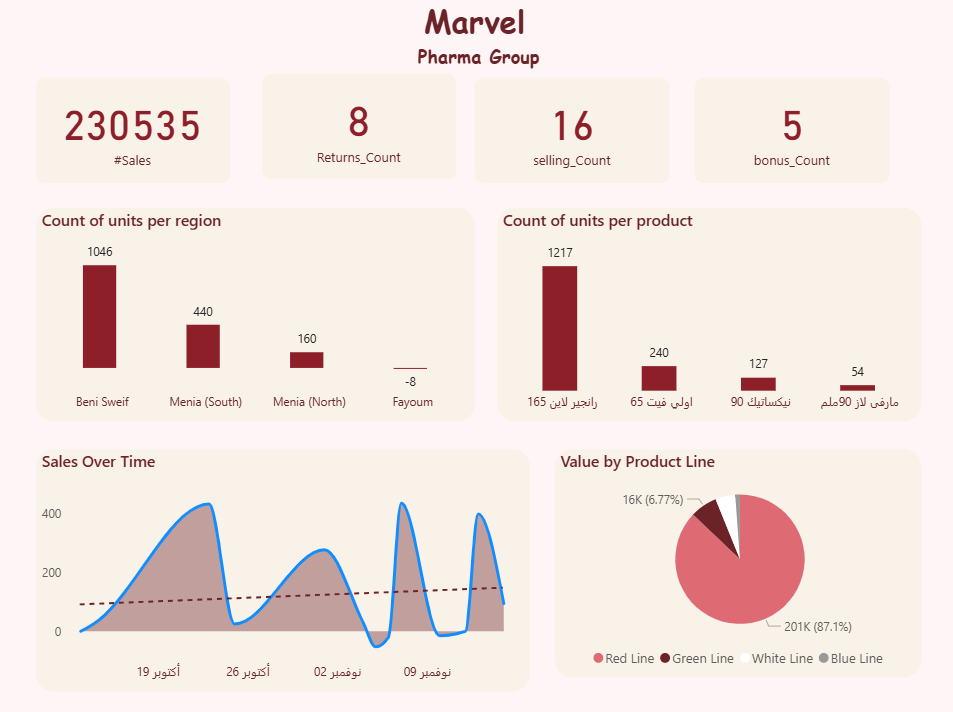

The dashboard page shown, as its layout file describes it:
{"tool":"powerbi","page":{"name":"Page 1","canvas":[1000,750],"ordinal":0},"visuals":[{"type":"clusteredColumnChart","title":"Count of units per region","fields":{"Y":["Sum(raw_sales.Units)"],"Category":["raw_sales.Region"]},"box":[56,217.8,447.1,217.8],"z":0},{"type":"card","fields":{"Values":["raw_sales.#values"]},"box":[56,85.3,197.4,107],"z":1000},{"type":"areaChart","title":"Sales Over Time","fields":{"Y":["Sum(raw_sales.Units)"],"Category":["raw_sales.Date.Variation.Date Hierarchy.Year","raw_sales.Date.Variation.Date Hierarchy.Quarter","raw_sales.Date.Variation.Date Hierarchy.Month","raw_sales.Date.Variation.Date Hierarchy.Day"]},"box":[56,463.7,503.1,247.1],"z":2000},{"type":"pieChart","title":"Value by Product Line ","fields":{"Y":["Sum(raw_sales.Value)"],"Category":["raw_sales.Line"]},"box":[584.7,463.7,373.2,233.1],"z":3000},{"type":"textbox","box":[264.9,0,476.4,101.9],"z":4000},{"type":"card","fields":{"Values":["raw_sales.bonus_Count"]},"box":[727.3,85.3,198.7,107],"z":5000},{"type":"card","fields":{"Values":["raw_sales.Returns_Count"]},"box":[286.6,81.5,197.4,107],"z":6000},{"type":"card","fields":{"Values":["raw_sales.selling_Count"]},"box":[503.1,85.3,198.7,107],"z":7000},{"type":"clusteredColumnChart","title":"Count of units per product","fields":{"Y":["Sum(raw_sales.Units)"],"Category":["raw_sales.Product Name"]},"box":[526.1,217.8,431.8,217.8],"z":8000}]}

Visuals, with their boxes in screenshot pixels (x1, y1, x2, y2), scaled from the page's 1000x750 canvas onto the 953x712 screenshot:
"Count of units per region" clusteredColumnChart: <box>53,207,479,414</box>
card - raw_sales.#values: <box>53,81,241,183</box>
"Sales Over Time" areaChart: <box>53,440,533,675</box>
"Value by Product Line " pieChart: <box>557,440,913,661</box>
textbox: <box>252,0,706,97</box>
card - raw_sales.bonus_Count: <box>693,81,882,183</box>
card - raw_sales.Returns_Count: <box>273,77,461,179</box>
card - raw_sales.selling_Count: <box>479,81,669,183</box>
"Count of units per product" clusteredColumnChart: <box>501,207,913,414</box>
